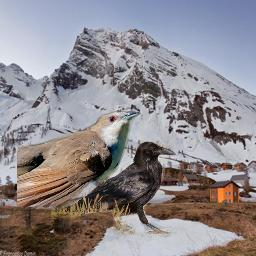Crow: (51, 141, 177, 235)
Cuckoo: (17, 111, 141, 207)
